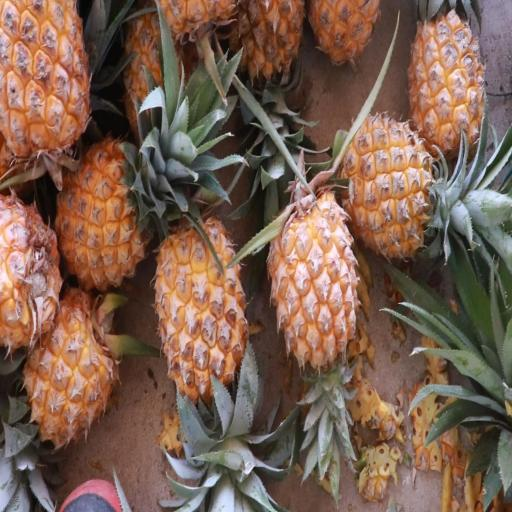Pineapple - v8 v1: (266, 177, 364, 381), (152, 206, 250, 409), (337, 101, 450, 266), (18, 280, 122, 449), (52, 130, 147, 296), (407, 2, 486, 162)
